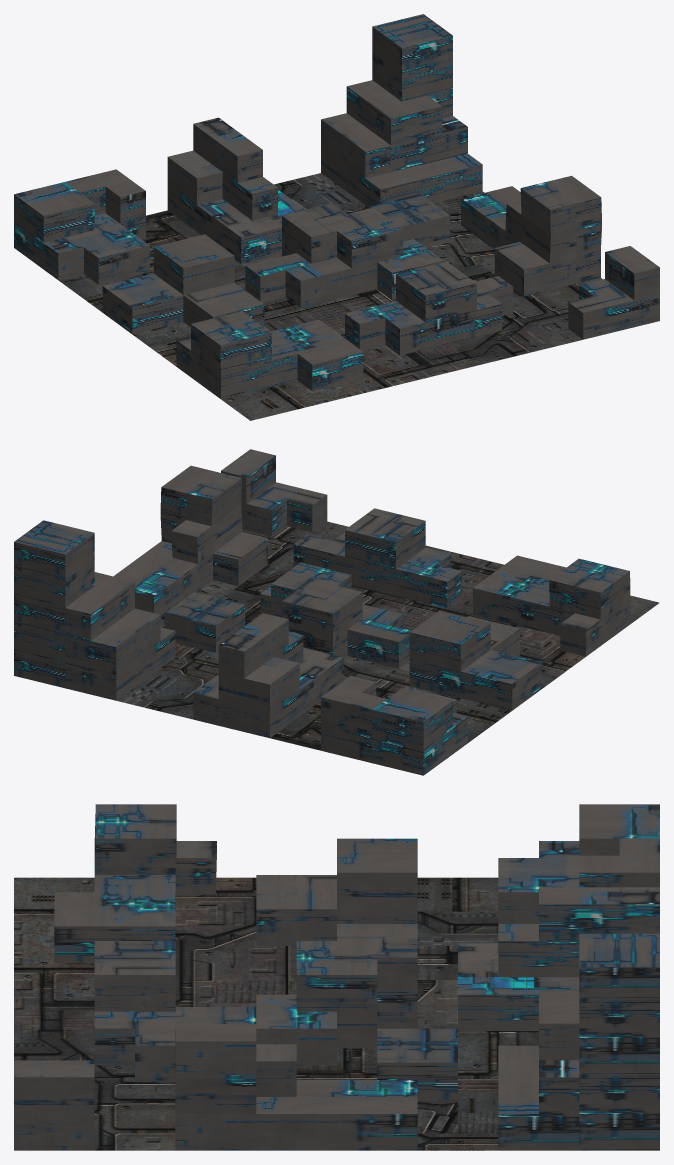
Rendered from Tile2.fbx.
The picture shows the model from 3 angles, top to bottom: view 1: azimuth 30°, elevation 25°; view 2: azimuth 150°, elevation 25°; view 3: azimuth 270°, elevation 25°; orthographic projection. The views are drawn at different scales.
Parts seen in each view (by area): view 1: Maze1; view 2: Maze1; view 3: Maze1.
Boxes of the visible parts, left/top/right/bottom form: Maze1: left=14, top=14, right=659, bottom=420; Maze1: left=14, top=449, right=659, bottom=775; Maze1: left=14, top=804, right=659, bottom=1150.
Size of the model in its own units: 1605 by 500 by 1600.
